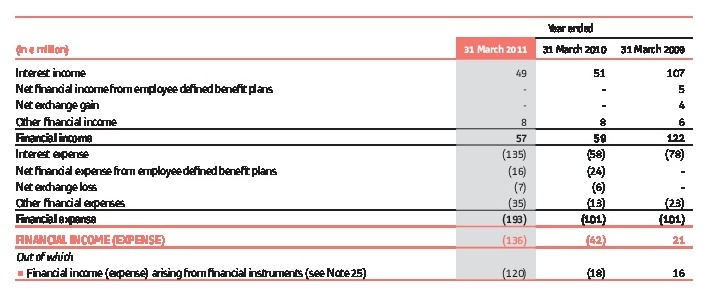table: (0, 0, 710, 298)
